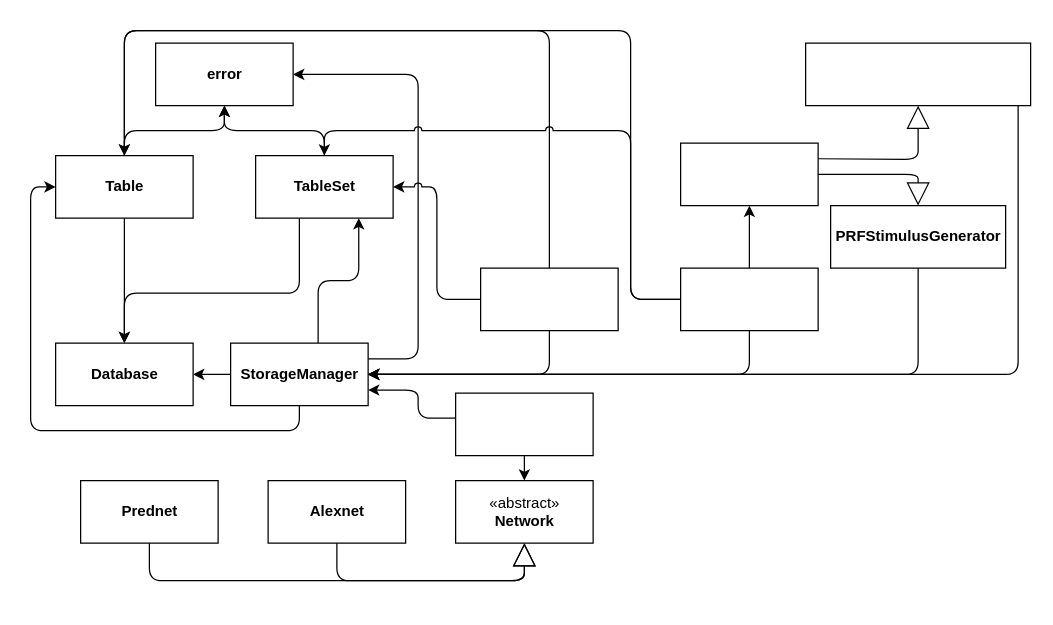
Some shapes in this 1053 by 625 pixel diagram are drawn without their labels. Here are the shapes that lost their labels. From the top down, the centre of each, then its label:
(917,74): NumerosityStimulusGenerator
(748,174): «abstract» StimulusGenerator
(548,299): FittingManager
(748,299): InputManager
(523,424): OutputManager
